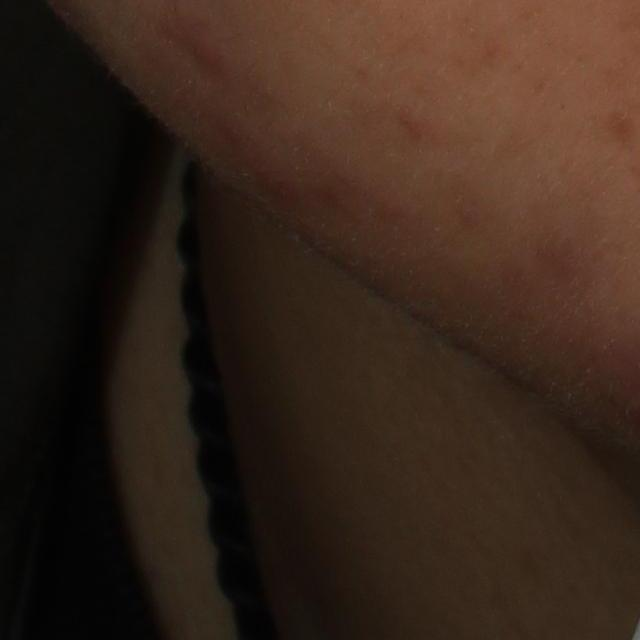papule: (192, 34, 228, 66)
